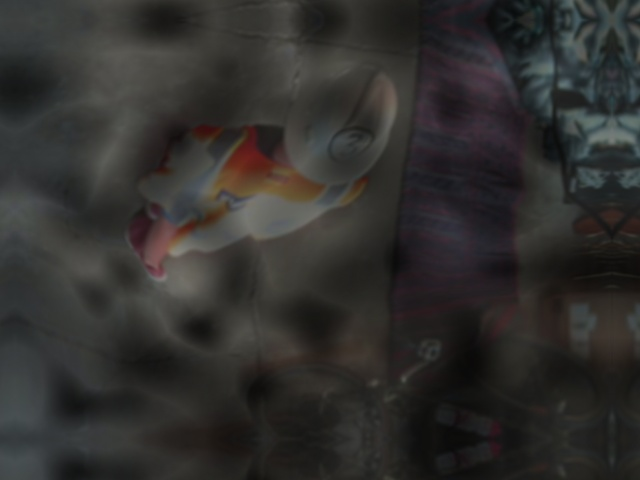three: (325, 125, 374, 162)
